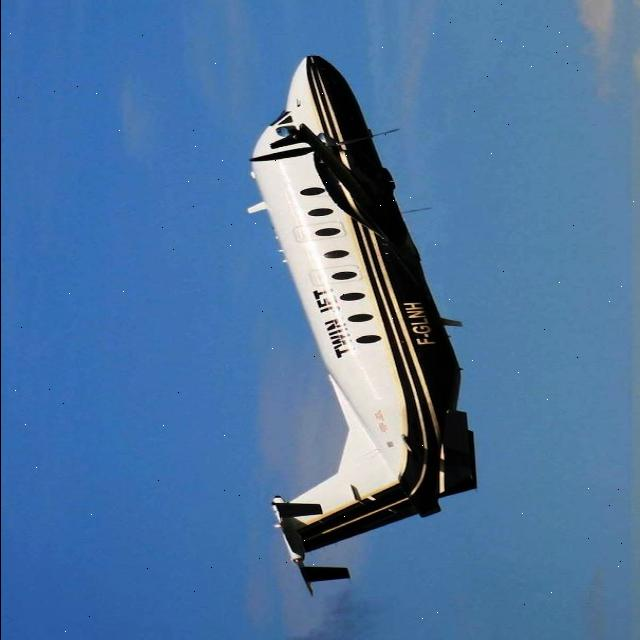jet: (212, 14, 598, 592)
